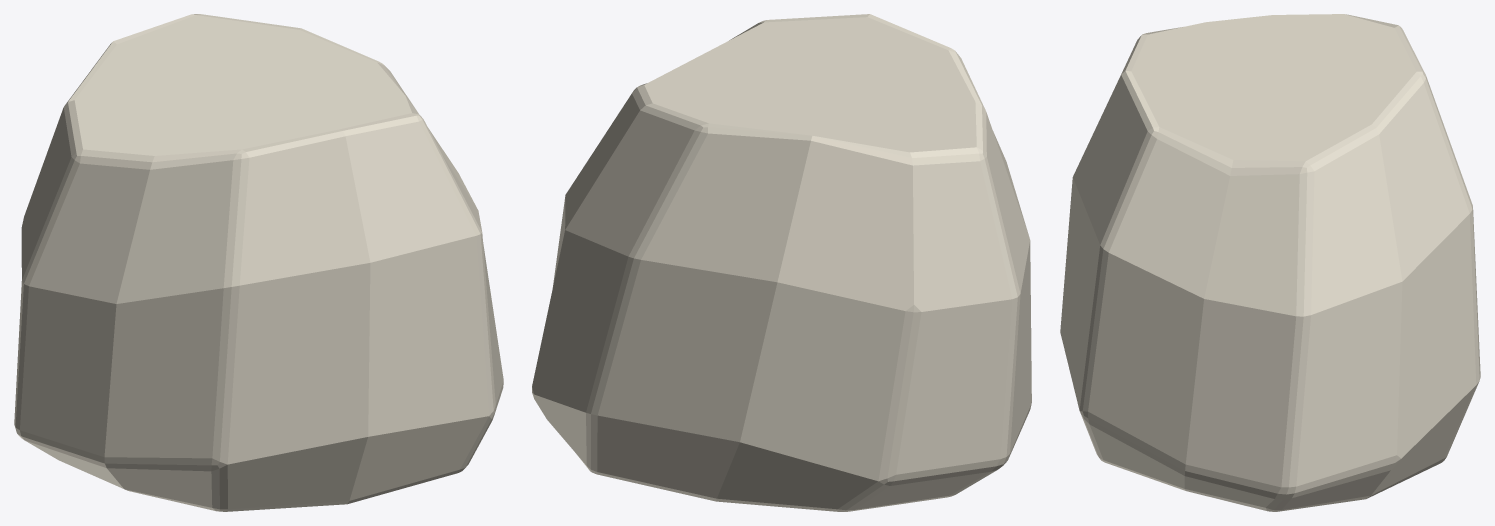
File: Test_CheonRef_RockB.fbx
The picture shows the model from 3 angles, left to right: view 1: azimuth 30°, elevation 25°; view 2: azimuth 150°, elevation 25°; view 3: azimuth 270°, elevation 25°; orthographic projection. The views are drawn at different scales.
Parts seen in each view (by area): view 1: BroadGraniteRock.001; view 2: BroadGraniteRock.001; view 3: BroadGraniteRock.001.
Boxes of the visible parts, bbox=[...] form: BroadGraniteRock.001: bbox=[14, 14, 503, 511]; BroadGraniteRock.001: bbox=[532, 14, 1031, 511]; BroadGraniteRock.001: bbox=[1060, 14, 1480, 511].
Size of the model in its own units: 227 by 170 by 186.
